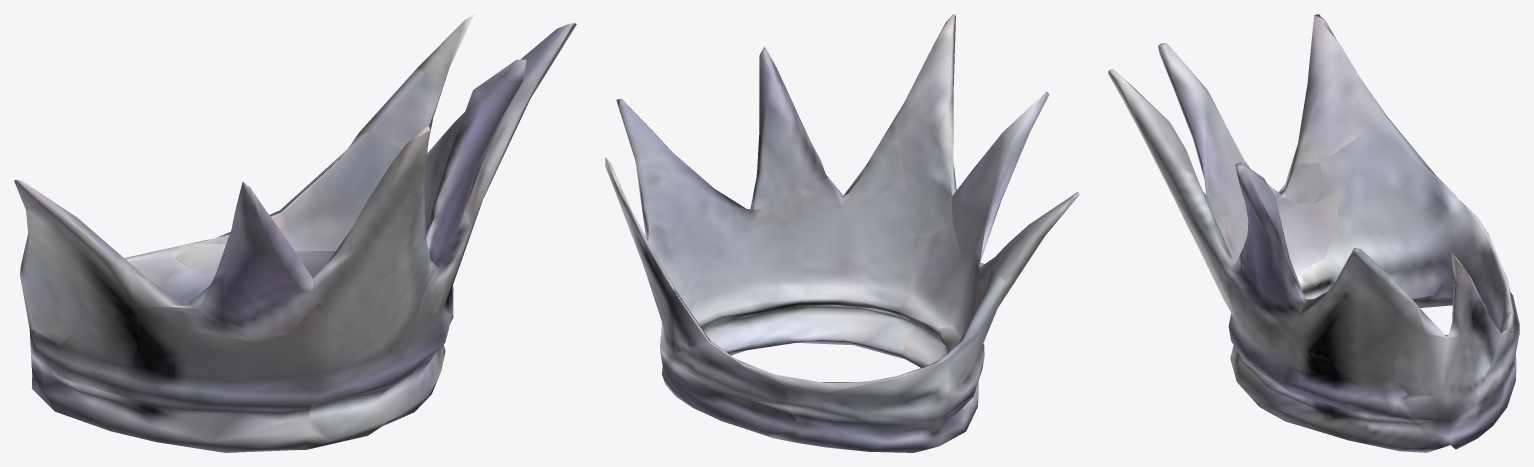
3 views of the same model, side by side, from view 1: azimuth 30°, elevation 25°; view 2: azimuth 150°, elevation 25°; view 3: azimuth 270°, elevation 25° (orthographic). The views are drawn at different scales.
Parts seen in each view (by area): view 1: Silver-Crown-05; view 2: Silver-Crown-05; view 3: Silver-Crown-05.
Part boxes in pixels (x1,y1,x2,y2): Silver-Crown-05: (14, 14, 576, 452); Silver-Crown-05: (605, 14, 1079, 452); Silver-Crown-05: (1108, 14, 1519, 452).
Bounding box in the file's own units: 0.3338 × 0.2055 × 0.245.
1 material, 1 textured.
